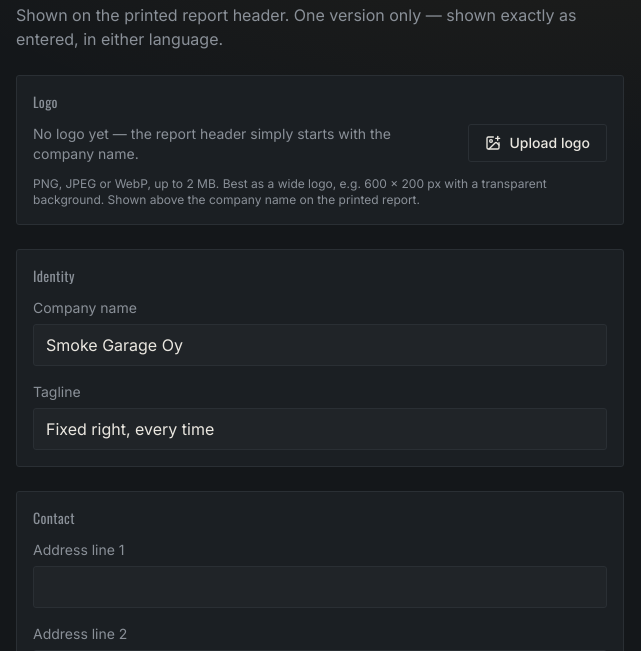
CompanyProfilePage › editing a field and saving sends the full form to PUT /company
Replace the text in the field showing "Smoke Garage Oy" with "Renamed Garage" at (320, 345), box [33, 324, 607, 366]
(page scrolled)
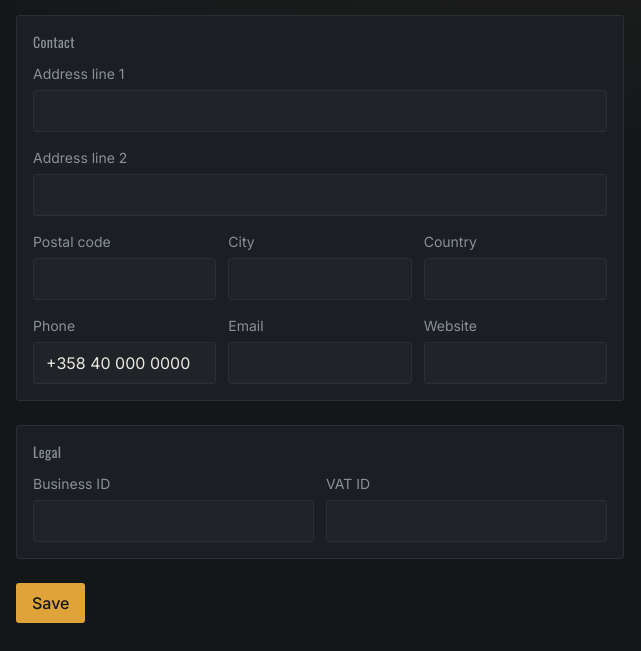
Click the button "Save".
click(51, 603)  # box [16, 583, 86, 623]
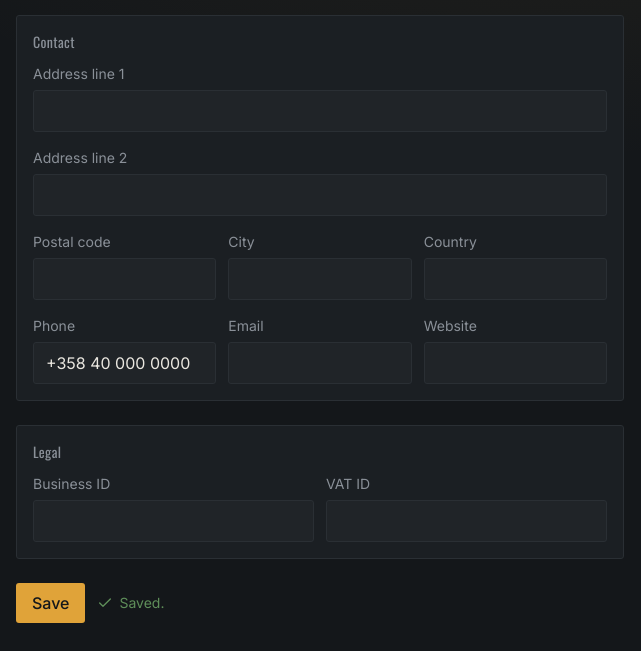
Check: the text "Saved." is shown, box [98, 593, 164, 613]
